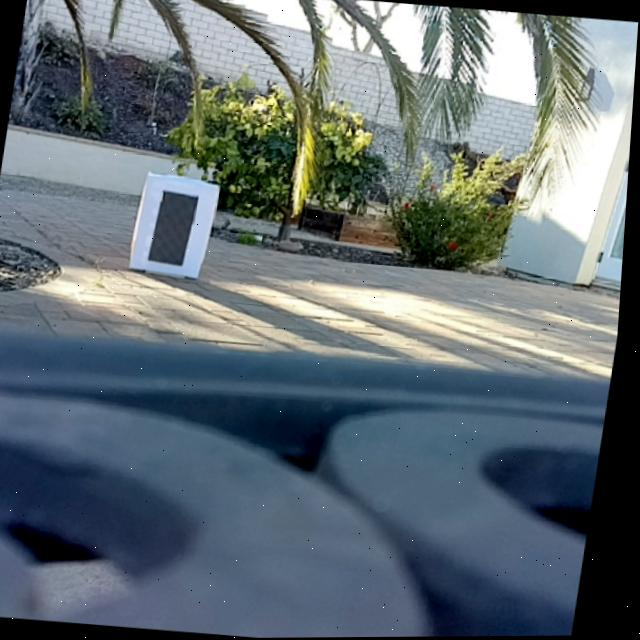led: (151, 189, 200, 268)
